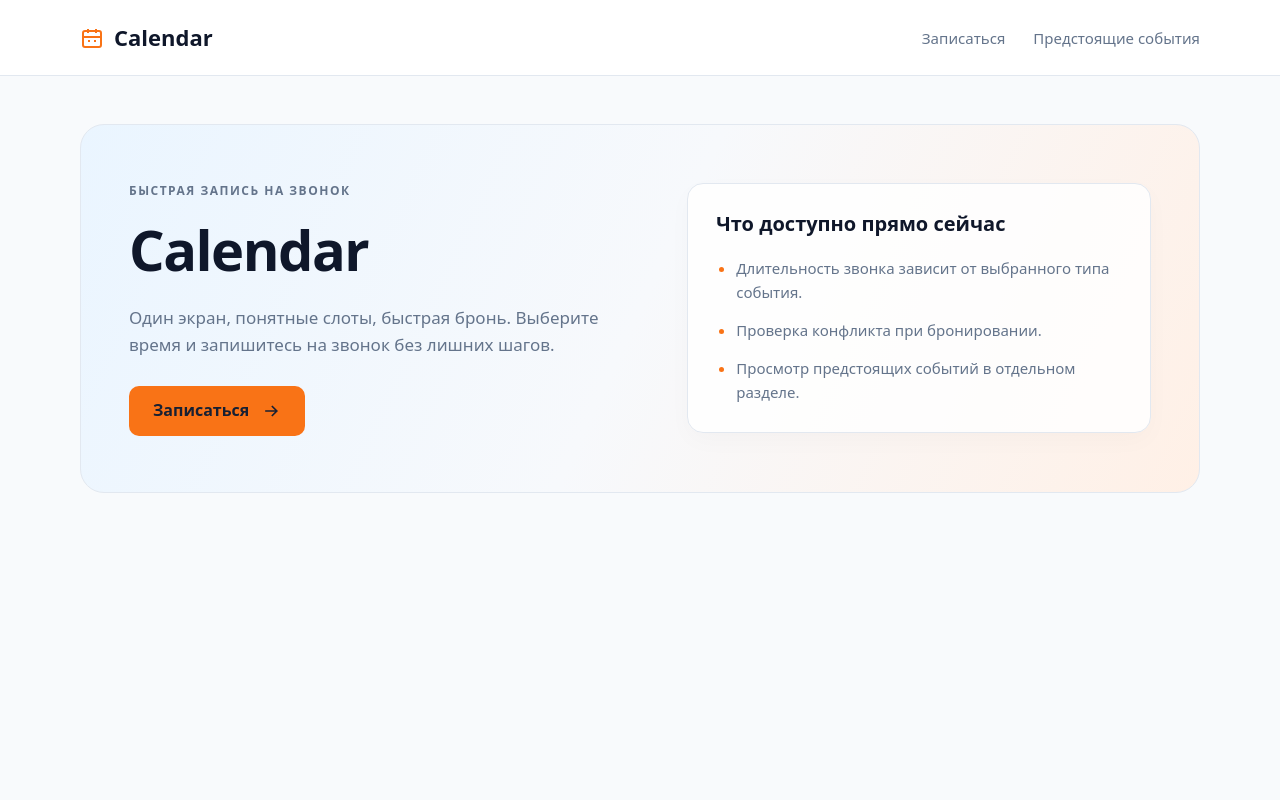
переход к предстоящим событиям и возврат через общую шапку
The width and height of the screenshot is (1280, 800).
Step 1. Click the link "Предстоящие события" → (1117, 38), box [1033,26,1200,50]
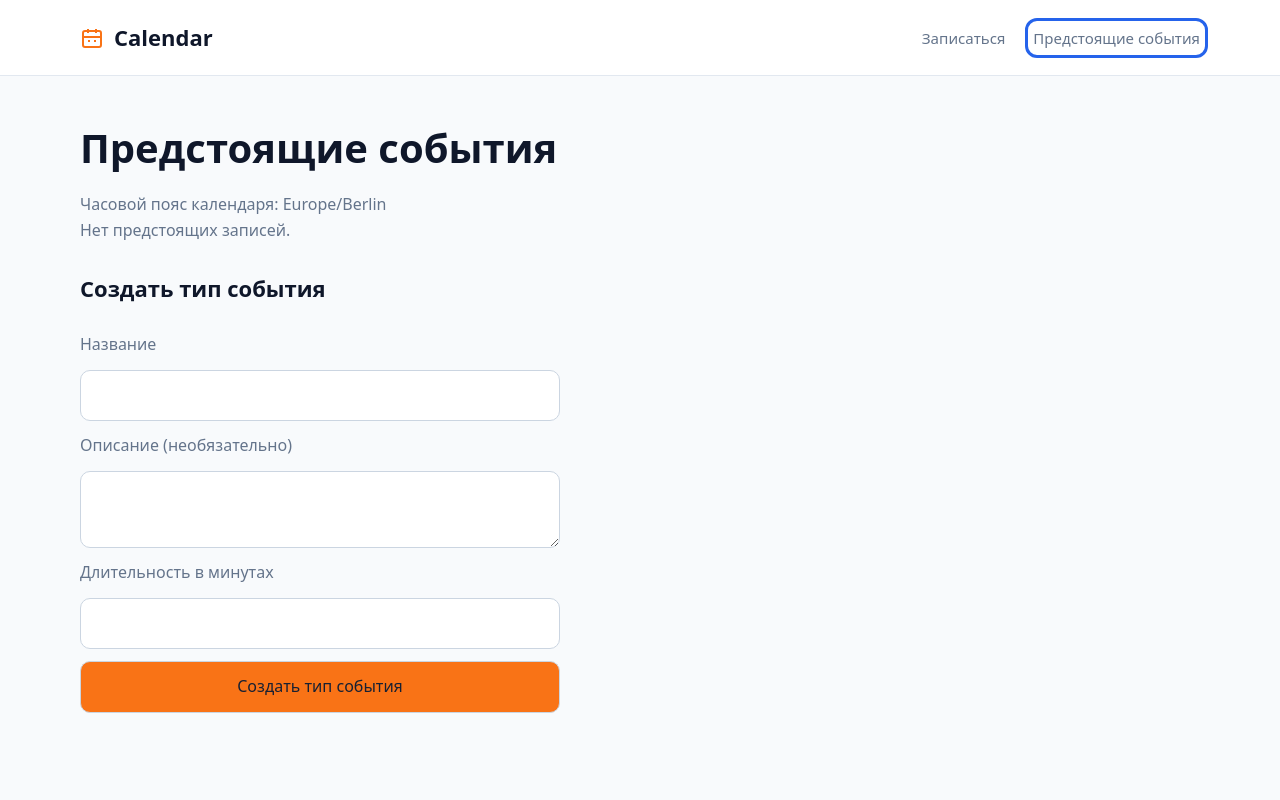
expect the heading "Предстоящие события" is shown: met, box [80,120,557,175]
expect the form "Создать тип события" is shown: met, box [80,243,560,713]
expect the text "Нет предстоящих записей." is shown: met, box [80,219,290,241]
Step 2. Click the link "Calendar" → (146, 38), box [80,20,213,55]
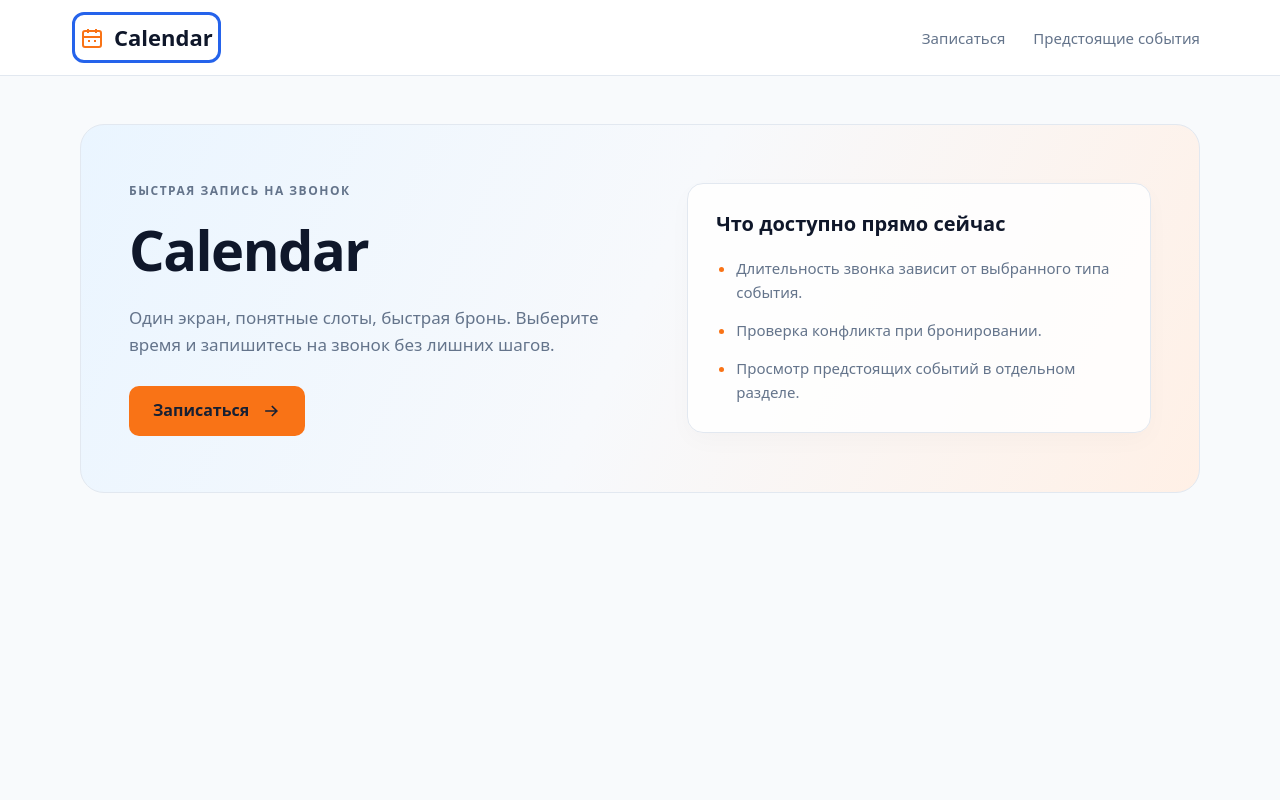
expect the heading "Calendar" is shown: met, box [129,211,368,287]
